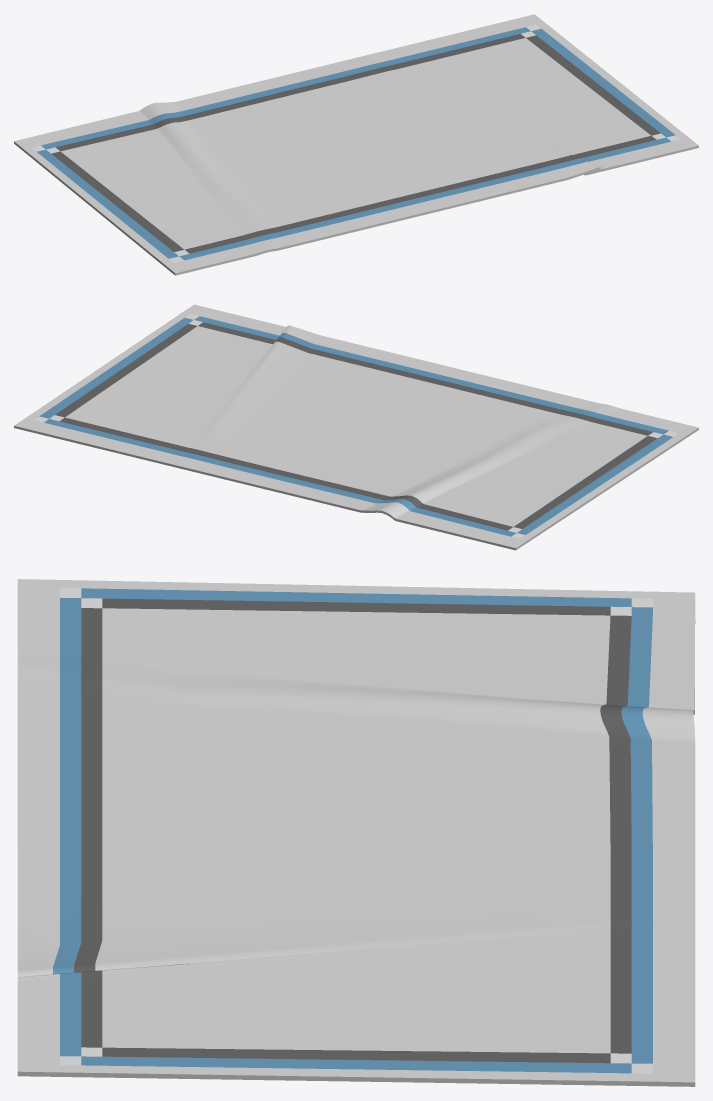
File: Rug.fbx
3 renders of one model, top to bottom at view 1: azimuth 30°, elevation 25°; view 2: azimuth 150°, elevation 25°; view 3: azimuth 270°, elevation 25°, orthographic. The views are drawn at different scales.
Visible parts, largest first — view 1: pCube119; view 2: pCube119; view 3: pCube119.
Boxes of the visible parts, bbox=[...] form: pCube119: bbox=[14, 14, 698, 275]; pCube119: bbox=[14, 304, 698, 550]; pCube119: bbox=[17, 579, 695, 1086].
Bounding box in the file's own units: 468 × 5.99 × 266.
